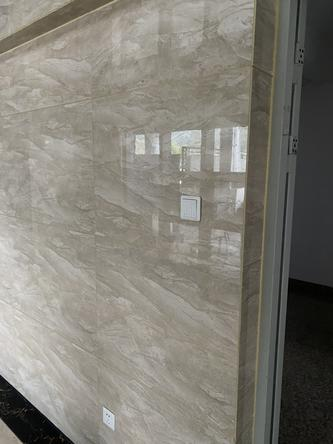switch: (181, 197, 199, 220)
